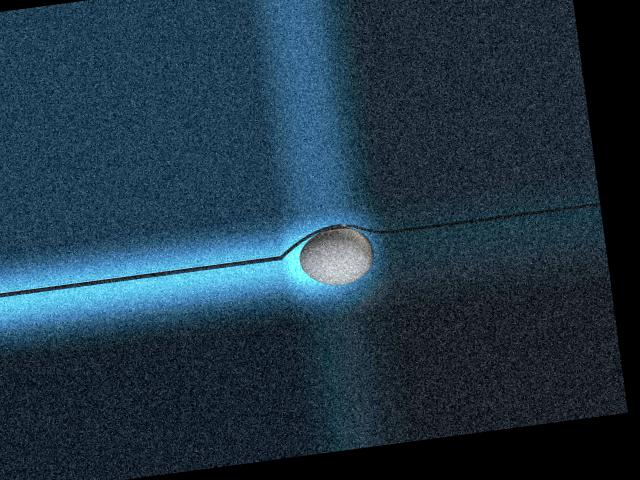egg: (296, 223, 377, 288)
